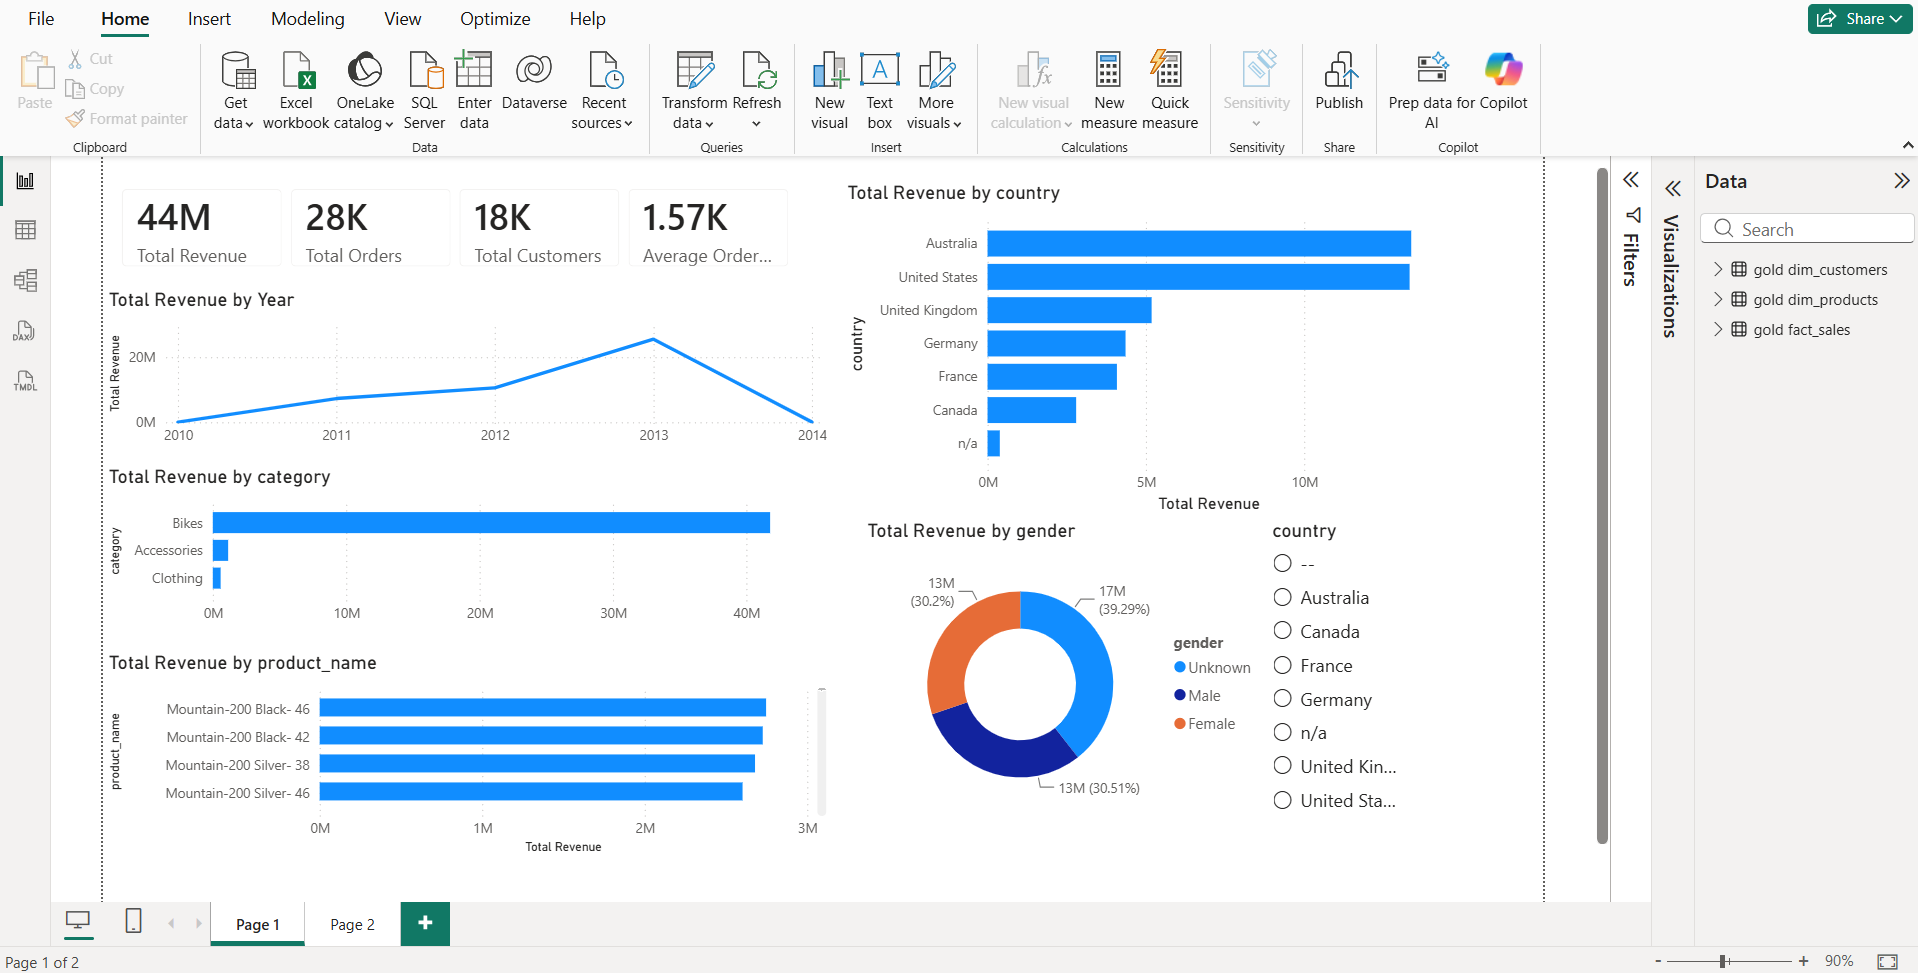

What the dashboard file says about the page in this screenshot:
{"tool":"powerbi","page":{"name":"Page 1","canvas":[1280,720],"ordinal":0},"visuals":[{"type":"cardVisual","fields":{"Data":["gold fact_sales.Total Revenue","gold fact_sales.Total Orders","gold fact_sales.Total Customers","gold fact_sales.Average Order Value"]},"box":[0,13.3,626.7,103.3],"z":0},{"type":"lineChart","fields":{"Category":["gold fact_sales.order_date.Variation.Date Hierarchy.Year","gold fact_sales.order_date.Variation.Date Hierarchy.Quarter","gold fact_sales.order_date.Variation.Date Hierarchy.Month","gold fact_sales.order_date.Variation.Date Hierarchy.Day"],"Y":["gold fact_sales.Total Revenue"]},"box":[0,117.5,648.3,150],"z":1000},{"type":"clusteredBarChart","fields":{"Category":["gold dim_products.category"],"Y":["gold fact_sales.Total Revenue"]},"box":[0,275.8,648.3,150],"z":2000},{"type":"barChart","fields":{"Category":["gold dim_products.product_name"],"Y":["gold fact_sales.Total Revenue"]},"box":[0,440.9,648.2,185.5],"z":3000},{"type":"clusteredBarChart","fields":{"Category":["gold dim_customers.country"],"Y":["gold fact_sales.Total Revenue"]},"box":[656.7,23.3,540.8,300],"z":4000},{"type":"donutChart","fields":{"Category":["gold dim_customers.gender"],"Y":["gold fact_sales.Total Revenue"]},"box":[674.3,322.9,360,275.7],"z":5000},{"type":"listSlicer","fields":{"Values":["gold dim_customers.country"]},"box":[1064.3,324.3,150,275.7],"z":5001}]}

Visuals, with their boxes on the page's 1280x720 design canvas (x1, y1, x2, y2). These are canvas units, not pixel positions in the 1918x973 screenshot, which may show the page scaled, cropped or inside an application window:
cardVisual - gold fact_sales.Total Revenue x gold fact_sales.Total Orders: x1=0 y1=13 x2=627 y2=117
lineChart - gold fact_sales.order_date.Variation.Date Hierarchy.Year x gold fact_sales.order_date.Variation.Date Hierarchy.Quarter: x1=0 y1=118 x2=648 y2=268
clusteredBarChart - gold dim_products.category x gold fact_sales.Total Revenue: x1=0 y1=276 x2=648 y2=426
barChart - gold dim_products.product_name x gold fact_sales.Total Revenue: x1=0 y1=441 x2=648 y2=626
clusteredBarChart - gold dim_customers.country x gold fact_sales.Total Revenue: x1=657 y1=23 x2=1198 y2=323
donutChart - gold dim_customers.gender x gold fact_sales.Total Revenue: x1=674 y1=323 x2=1034 y2=599
listSlicer - gold dim_customers.country: x1=1064 y1=324 x2=1214 y2=600
